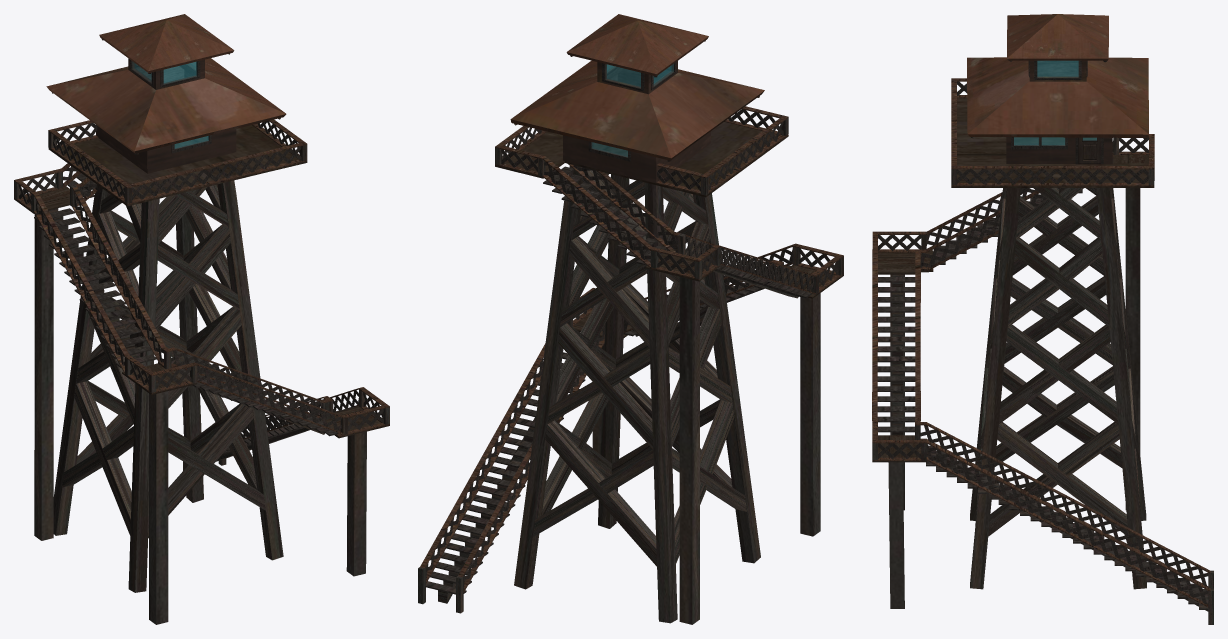
The model's file is Watchtower.fbx.
The picture shows the model from 3 angles, left to right: view 1: azimuth 30°, elevation 25°; view 2: azimuth 150°, elevation 25°; view 3: azimuth 270°, elevation 25°; orthographic projection. The views are drawn at different scales.
Visible parts, largest first — view 1: legs, support beams, roof, cross split supports layer 4, fence plank stairs, cross whole supports layer 4, floor, stairs, top roof, cross split supports layer 2, cross split supports layer 3, cross whole supports layer 2 (+21 smaller); view 2: legs, roof, support beams, fence plank stairs, cross whole supports layer 4, stairs, cross whole supports layer 3, cross split supports layer 4, top roof, floor, cross split supports layer 3, cross whole supports layer 2 (+20 smaller); view 3: roof, legs, stairs, fence plank stairs, support beams, cross whole supports layer 4, top roof, floor, cross whole supports layer 3, cross split supports layer 4, cross split supports layer 3, cross whole supports layer 2 (+22 smaller).
Boxes of the visible parts, box(x1,y1,x2,y2) form: legs: box(53, 180, 283, 592); support beams: box(34, 214, 366, 624); roof: box(46, 58, 286, 153); cross split supports layer 4: box(62, 378, 257, 538); fence plank stairs: box(34, 163, 358, 439); cross whole supports layer 4: box(74, 360, 265, 535); floor: box(48, 125, 307, 206); stairs: box(34, 173, 358, 453); top roof: box(99, 14, 234, 72); cross split supports layer 2: box(88, 206, 231, 329); cross split supports layer 3: box(76, 284, 243, 408); cross whole supports layer 2: box(97, 195, 239, 327); legs: box(514, 166, 760, 623); roof: box(510, 60, 764, 160); support beams: box(592, 277, 820, 624); fence plank stairs: box(420, 156, 815, 592); cross whole supports layer 4: box(541, 393, 746, 566); stairs: box(425, 166, 811, 594); cross whole supports layer 3: box(556, 298, 732, 449); cross split supports layer 4: box(532, 377, 734, 563); top roof: box(566, 14, 708, 76); floor: box(495, 122, 788, 197); cross split supports layer 3: box(547, 284, 721, 446); cross whole supports layer 2: box(569, 221, 719, 347); roof: box(967, 57, 1148, 137); legs: box(970, 188, 1146, 589); stairs: box(877, 177, 1209, 609); fence plank stairs: box(872, 153, 1210, 607); support beams: box(888, 188, 1140, 608); cross whole supports layer 4: box(975, 366, 1141, 534); top roof: box(1007, 14, 1108, 60); floor: box(951, 98, 1154, 187); cross whole supports layer 3: box(985, 276, 1130, 423); cross split supports layer 4: box(975, 366, 1141, 536); cross split supports layer 3: box(985, 277, 1130, 424); cross whole supports layer 2: box(995, 196, 1121, 326).
Bounding box in the file's own units: 1331 × 2828 × 1609.
